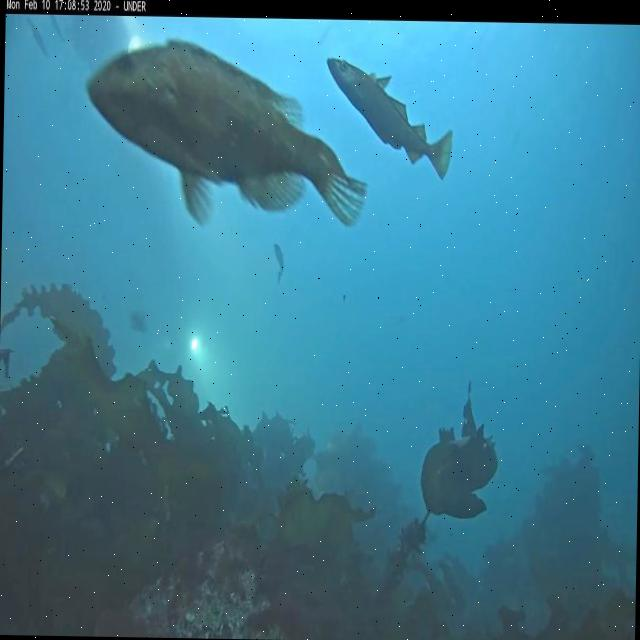fish: (81, 37, 368, 231), (324, 55, 453, 182), (24, 15, 50, 60), (272, 242, 284, 284), (50, 16, 64, 42)
